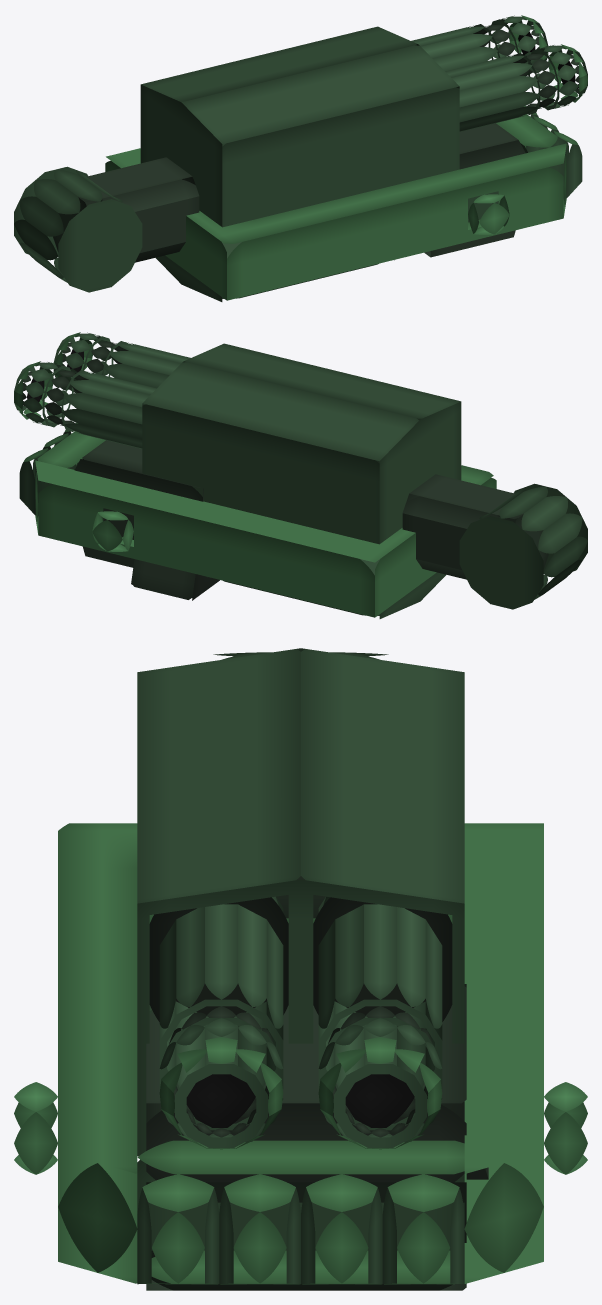
The model's file is CommandoArmR.obj.
3 renders of one model, top to bottom at view 1: azimuth 30°, elevation 25°; view 2: azimuth 150°, elevation 25°; view 3: azimuth 270°, elevation 25°, orthographic. The views are drawn at different scales.
Visible parts, largest first — view 1: Forearm, cylinder, Arm, cuboid; view 2: Forearm, cylinder, Arm, cuboid; view 3: Forearm, cylinder, cuboid.
Part boxes in pixels (bbox=[...]): Forearm: bbox=[105, 26, 582, 301]; cylinder: bbox=[14, 15, 587, 292]; Arm: bbox=[53, 157, 199, 262]; cuboid: bbox=[424, 123, 525, 257]; Forearm: bbox=[19, 343, 496, 618]; cylinder: bbox=[14, 332, 587, 609]; Arm: bbox=[402, 474, 548, 579]; cuboid: bbox=[74, 440, 219, 600]; Forearm: bbox=[14, 648, 587, 1284]; cylinder: bbox=[159, 652, 442, 1149]; cuboid: bbox=[146, 984, 488, 1290].
Bounding box in the file's own units: 0.85 × 0.2906 × 0.4062.
Materials: 1 (1 with a texture image).
